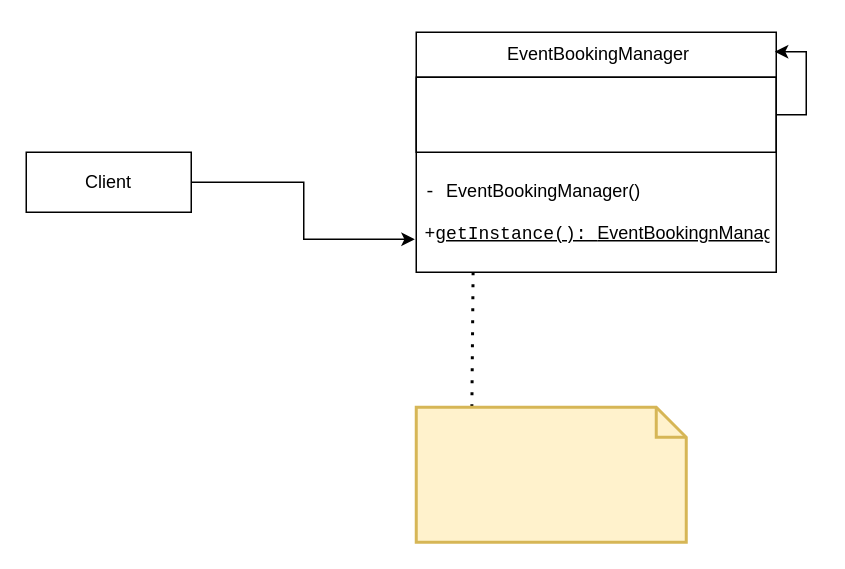
This 845x569 diagram has some shape labels left out. The centre of each missing label's shape, as x and y in pixels:
- instance: EventBookingManager: point 595,114
if (instance == null) { instance = new EventBookingManager(); } return instance;: point 550,474
